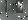person: (17, 1, 24, 14), (7, 1, 12, 13)
